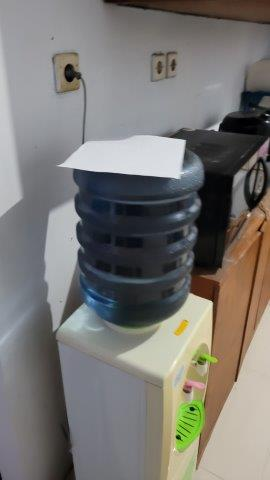kertas: (56, 135, 190, 184)
